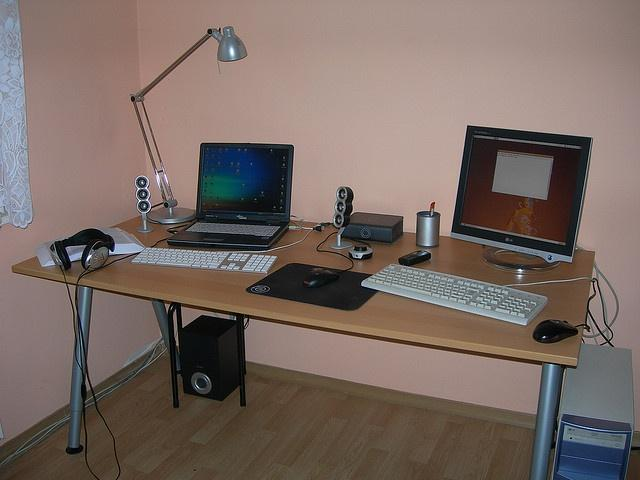AIO PC-Monitor-TV: (449, 124, 594, 263)
Meja: (10, 202, 595, 368)
